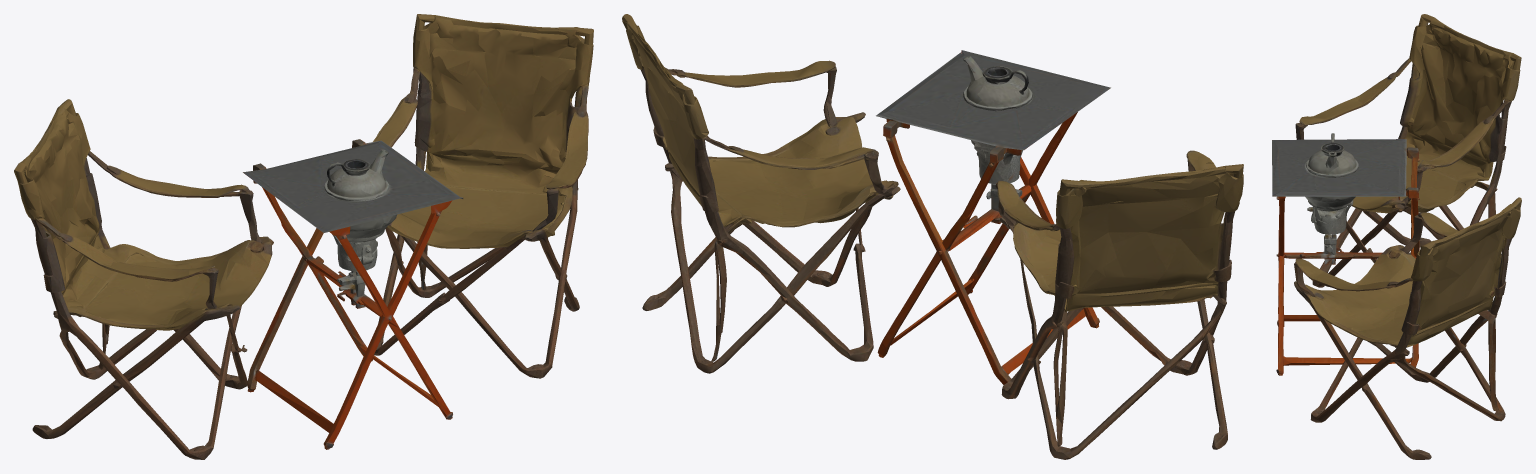
The model's file is web.glb.
The picture shows the model from 3 angles, left to right: view 1: azimuth 30°, elevation 25°; view 2: azimuth 150°, elevation 25°; view 3: azimuth 270°, elevation 25°; orthographic projection. The views are drawn at different scales.
Parts seen in each view (by area): view 1: output_unwrapped; view 2: output_unwrapped; view 3: output_unwrapped.
Part boxes in pixels (box(x1,y1,x2,y2)): output_unwrapped: box(14, 14, 593, 459); output_unwrapped: box(622, 14, 1243, 459); output_unwrapped: box(1272, 14, 1521, 459).
Bounding box in the file's own units: 1.9 × 0.8549 × 0.8634.
1 material, 1 textured.
